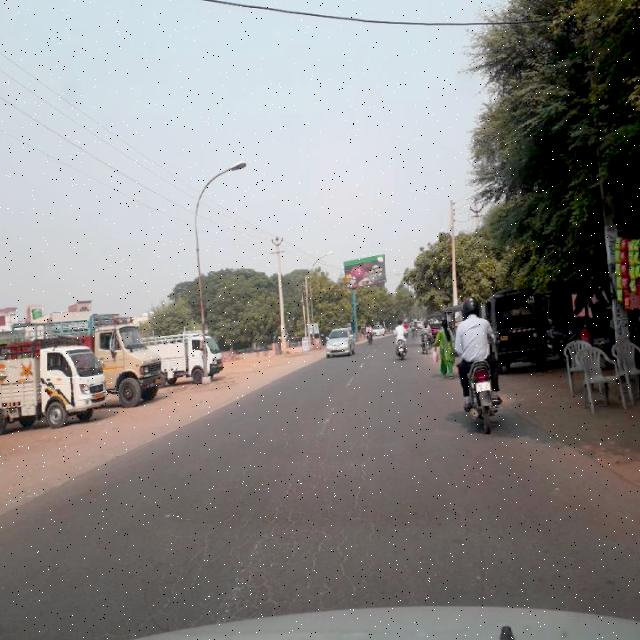D20: (170, 458, 407, 624)
D44: (313, 402, 338, 449)
